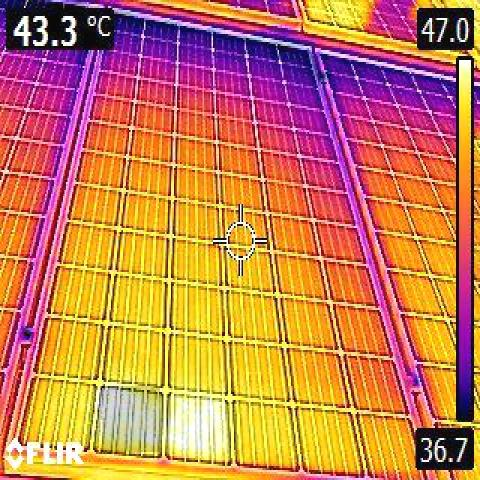fault: (102, 386, 160, 452), (171, 398, 231, 461)
